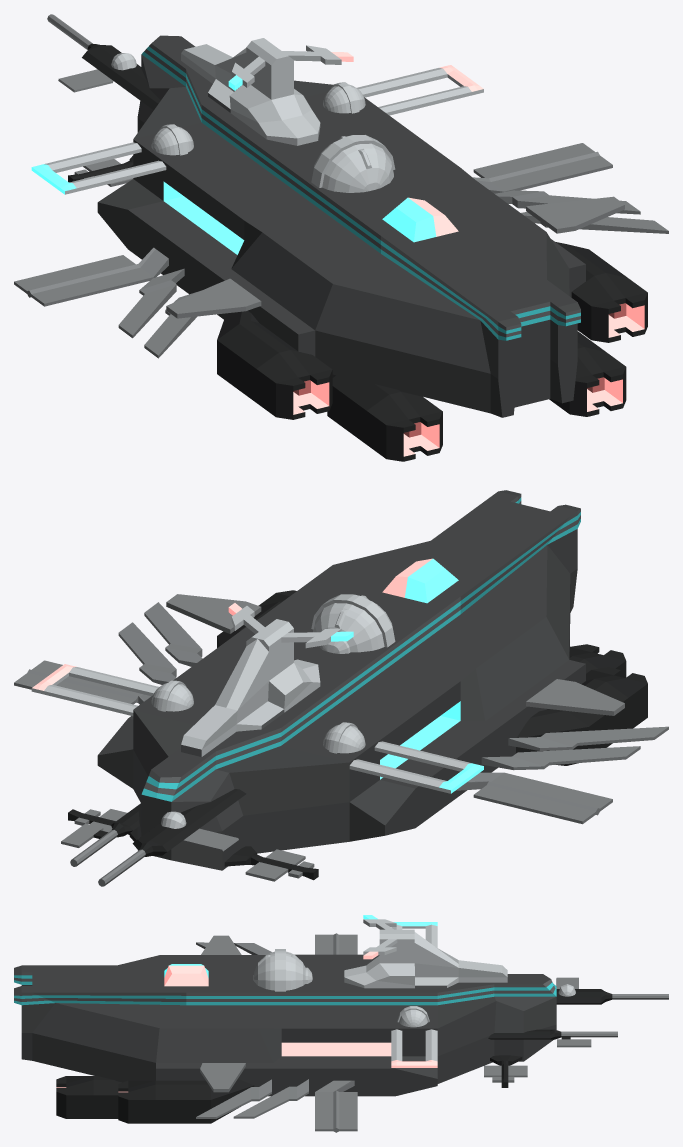
Rendered from Exploration_Cruiser_LODGroup.fbx.
3 views of the same model, one above another, from view 1: azimuth 30°, elevation 25°; view 2: azimuth 150°, elevation 25°; view 3: azimuth 270°, elevation 25° (orthographic). The views are drawn at different scales.
Parts seen in each view (by area): view 1: Exploration Cruiser_LOD0; view 2: Exploration Cruiser_LOD0; view 3: Exploration Cruiser_LOD0.
Part boxes in pixels (x1,y1,x2,y2): Exploration Cruiser_LOD0: [14, 14, 668, 461]; Exploration Cruiser_LOD0: [14, 490, 668, 886]; Exploration Cruiser_LOD0: [14, 915, 668, 1132].
Size of what is drawn, in the model's own units: 216 by 79.53 by 307.
